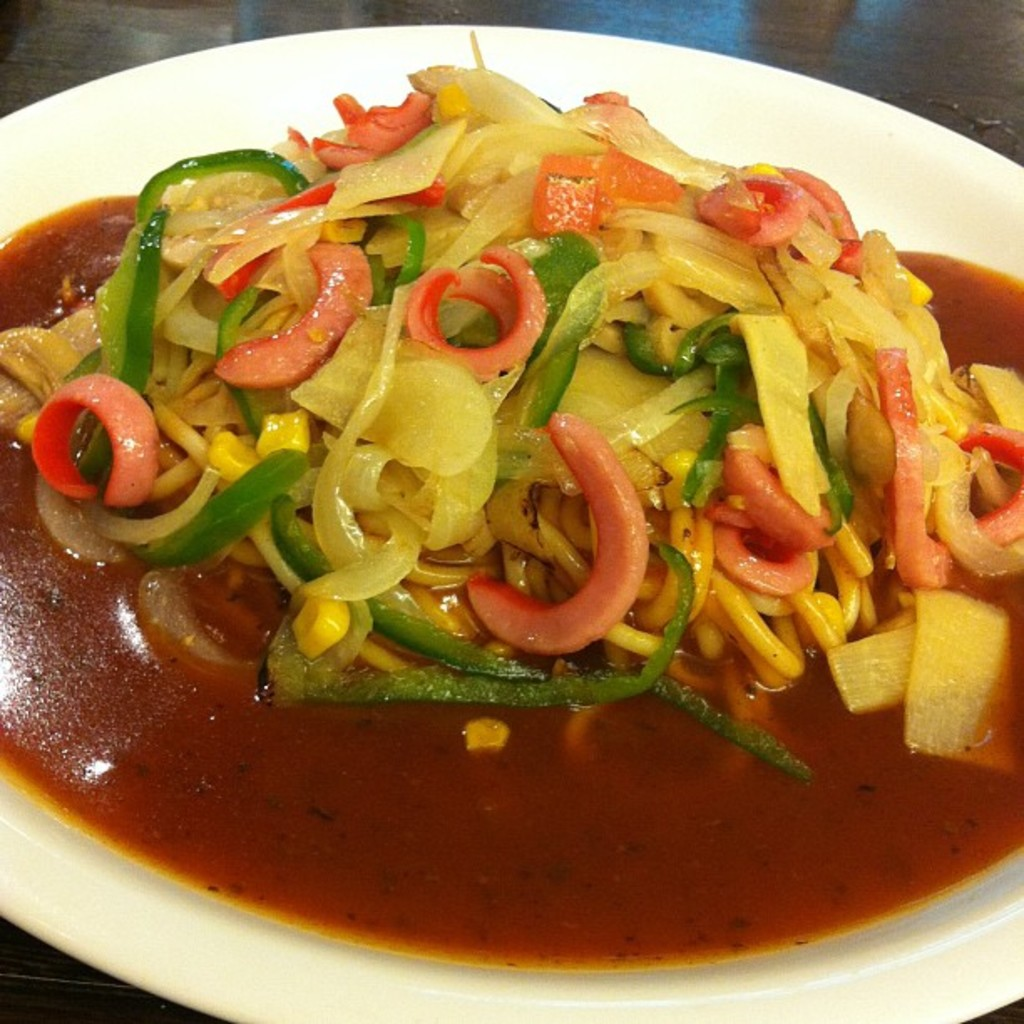salad: (0, 23, 1022, 783)
